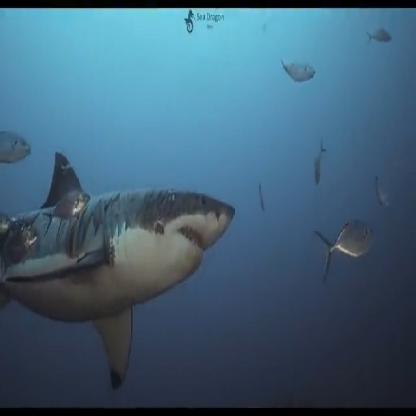white-shark: (0, 149, 236, 389)
